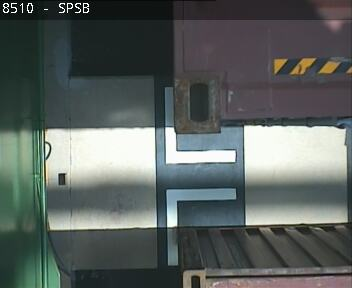groundmarker_1: (164, 86, 236, 266)
